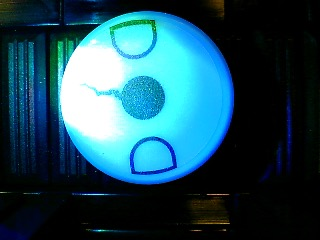CRACK: (60, 10, 234, 184)
